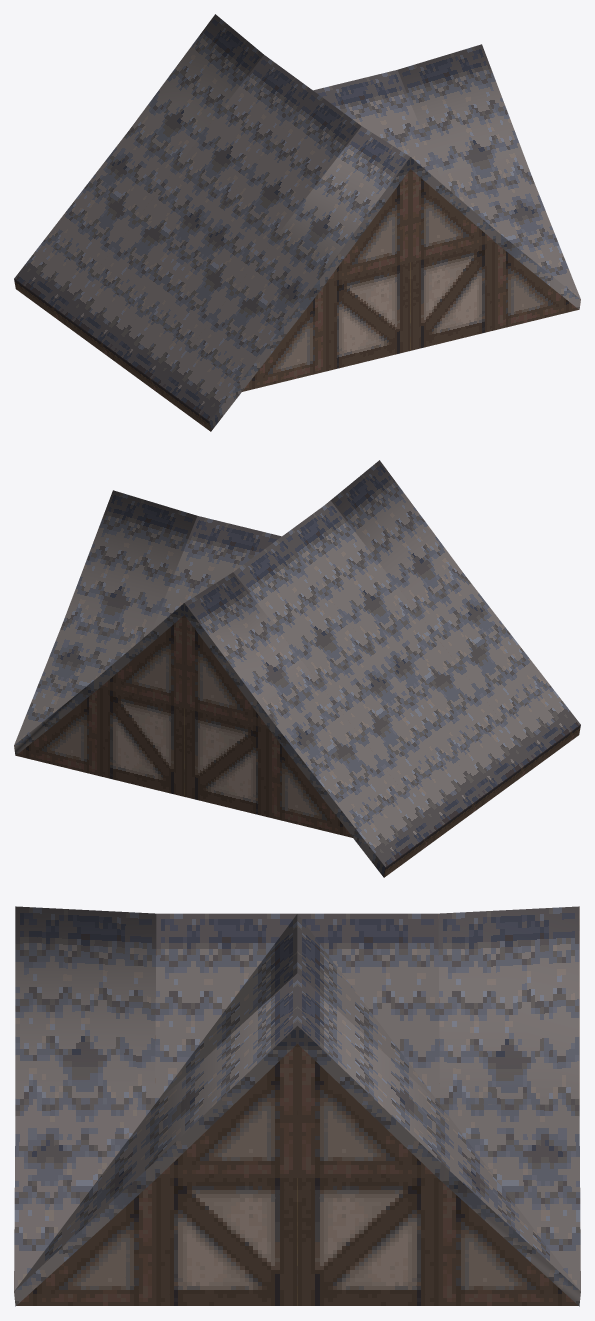
The model's file is roof_blue_T.glb.
3 views of the same model, one above another, from view 1: azimuth 30°, elevation 25°; view 2: azimuth 150°, elevation 25°; view 3: azimuth 270°, elevation 25° (orthographic). The views are drawn at different scales.
Parts seen in each view (by area): view 1: roof_blue_T; view 2: roof_blue_T; view 3: roof_blue_T.
Part boxes in pixels (<box>): roof_blue_T: <box>14,14,580,431</box>; roof_blue_T: <box>14,460,580,877</box>; roof_blue_T: <box>14,906,580,1306</box>.
Bounding box in the file's own units: 5.49 × 3.2 × 5.03.
1 material, 1 textured.
